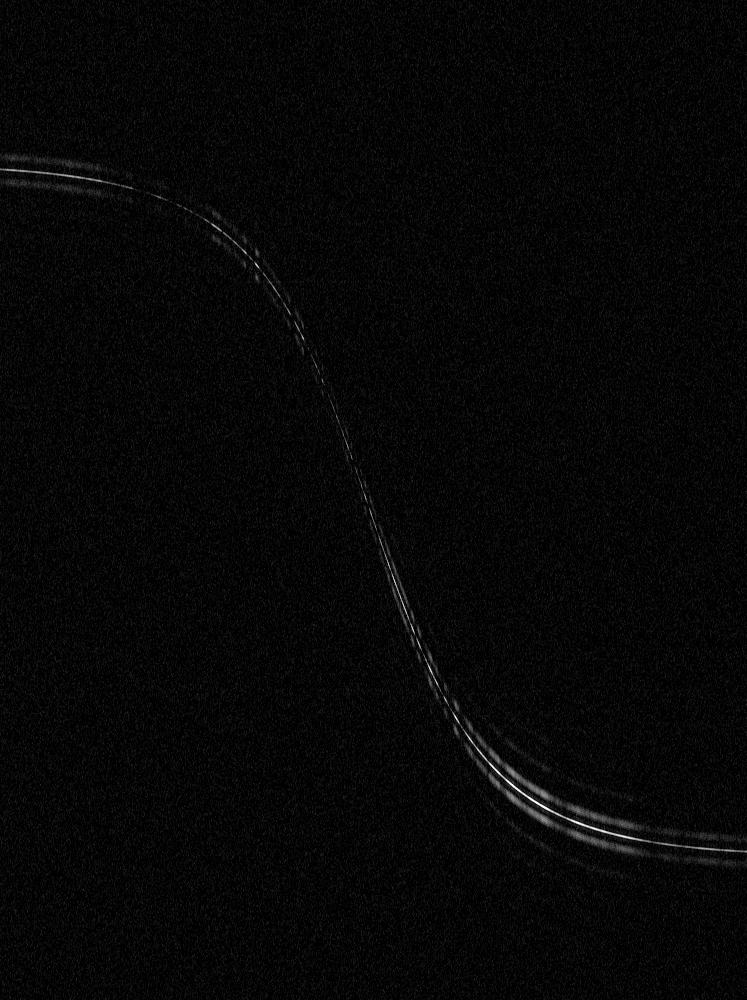signal: (0, 0, 746, 999)
